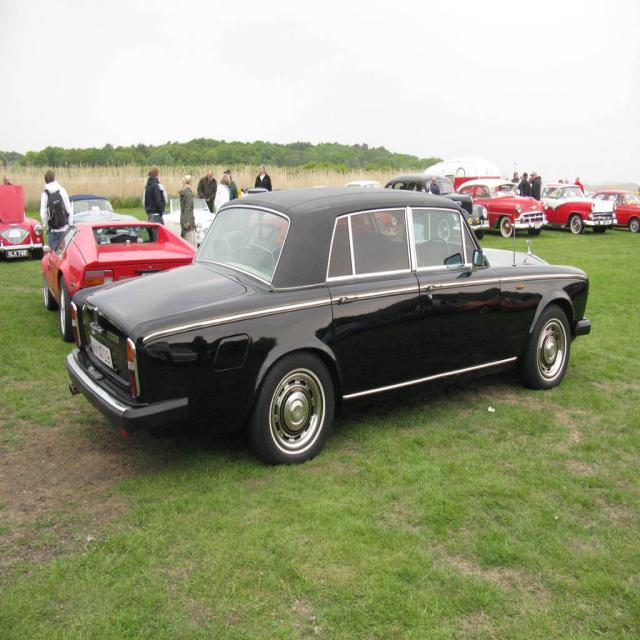car: (42, 193, 596, 465)
